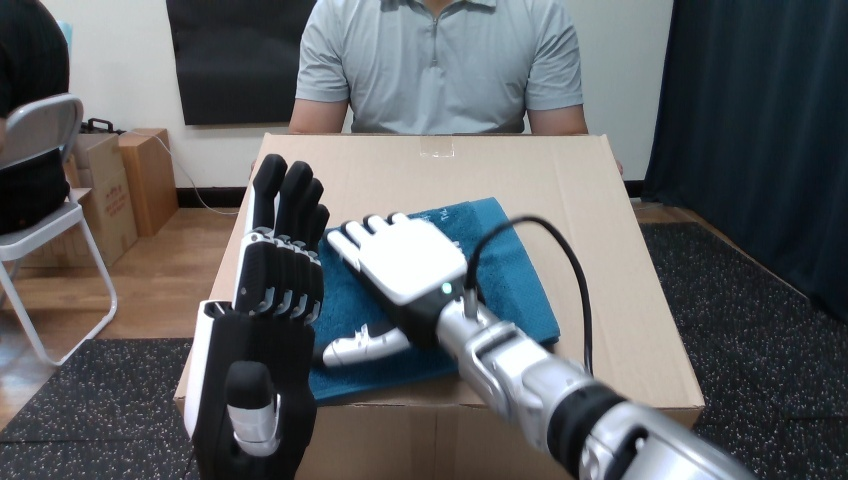left robot hand: (320, 213, 752, 479), (184, 154, 328, 478), (475, 221, 586, 368)
